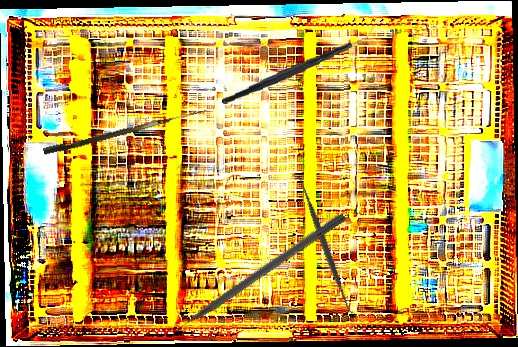Chopper: (217, 24, 380, 105)
Hook Surgical: (42, 102, 208, 158)
Pusher: (161, 210, 347, 342)
Spatula Surgical: (290, 169, 358, 319)
